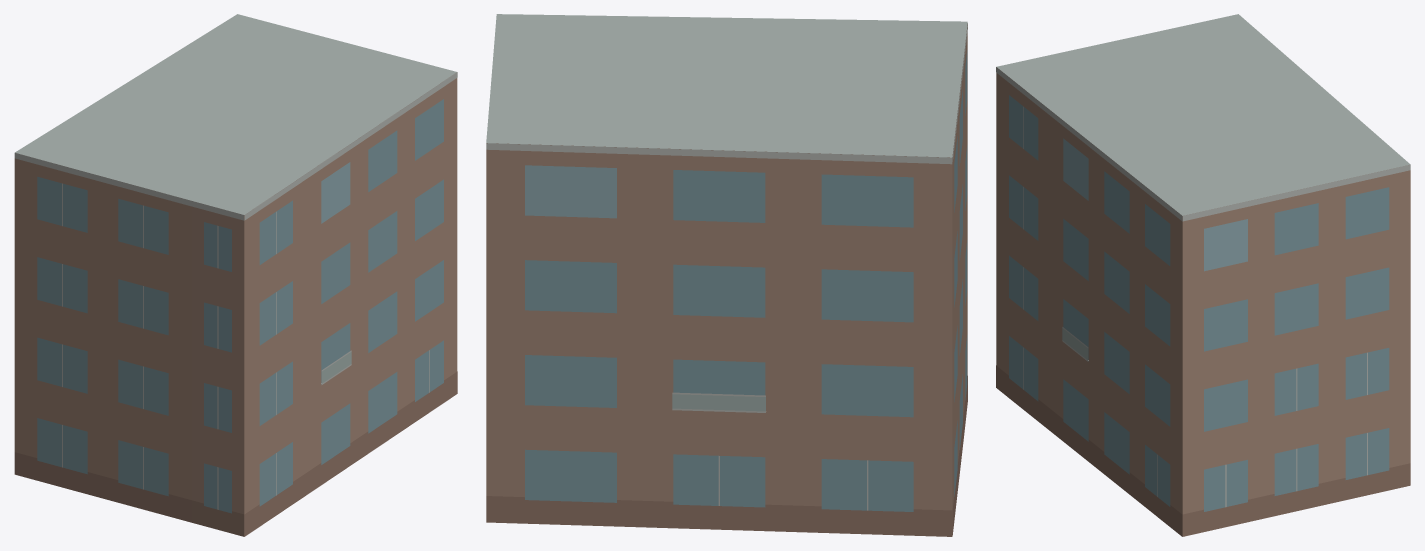
The model's file is survey-upis-32801565.glb.
3 renders of one model, left to right at view 1: azimuth 30°, elevation 25°; view 2: azimuth 150°, elevation 25°; view 3: azimuth 270°, elevation 25°, orthographic. The views are drawn at different scales.
Parts seen in each view (by area): view 1: survey-upis-32801565.tmp; view 2: survey-upis-32801565.tmp; view 3: survey-upis-32801565.tmp.
Boxes of the visible parts, x1,y1,x2,y2 form: survey-upis-32801565.tmp: (14,14,457,536); survey-upis-32801565.tmp: (486,14,967,536); survey-upis-32801565.tmp: (996,14,1410,536).
Size of the model in its own units: 18.69 by 13.85 by 16.22.
